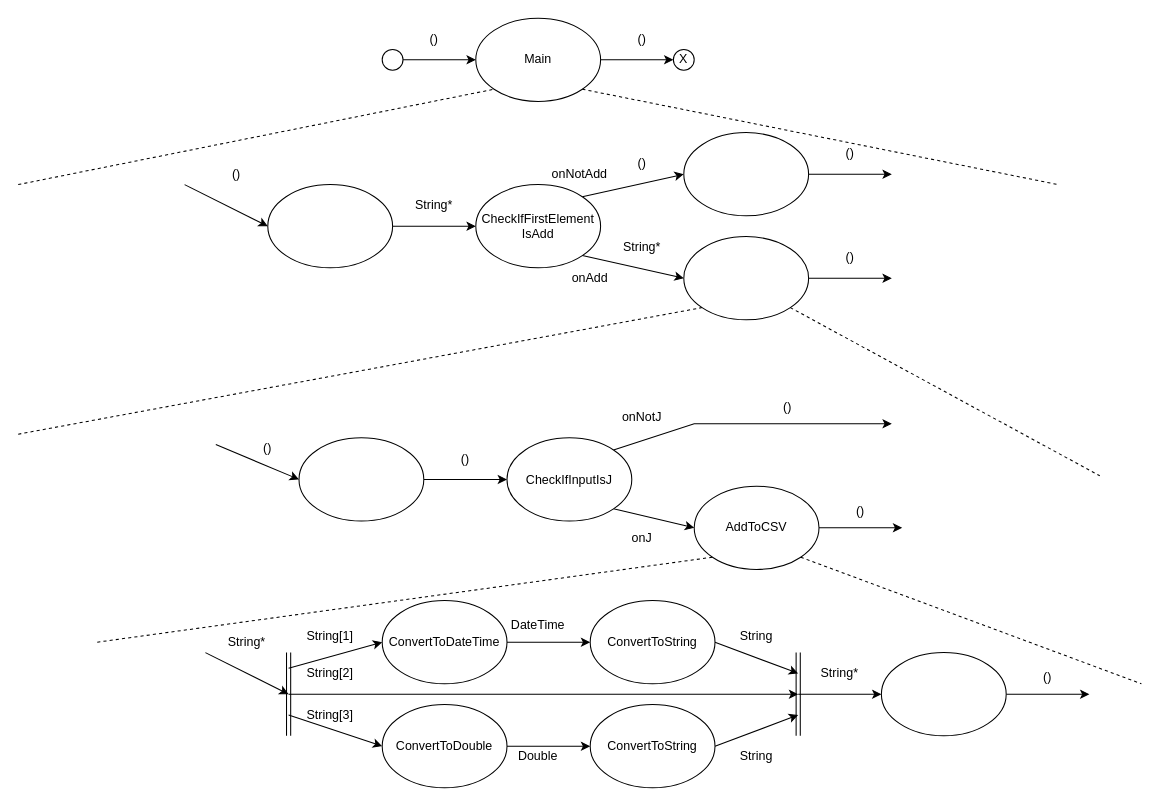
This 1161x806 diagram has some shape labels left out. The shapes that lost their labels are listed below. From the top down, each one's centre as x and y in pixels, then its label:
(x=746, y=174): PrintErr
(x=330, y=226): Run
(x=746, y=278): AddBooking
(x=361, y=479): PrintConfirmMessage
(x=943, y=694): AddStringToCSV
